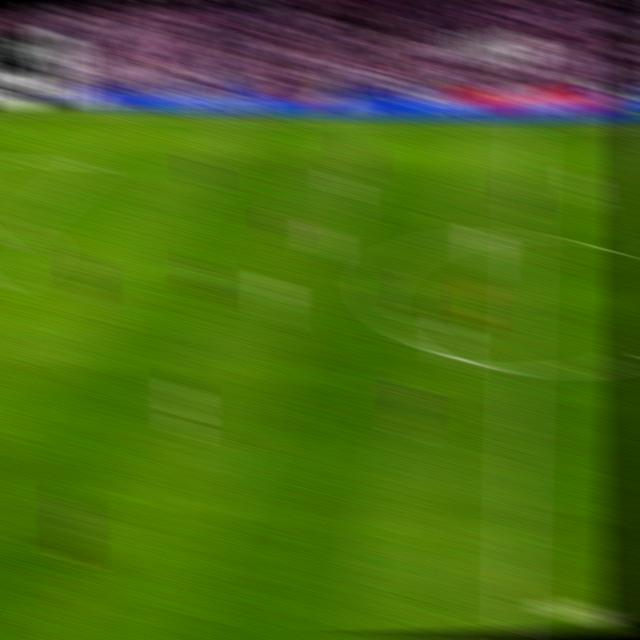bigarea_top_inner: (80, 156, 105, 172)
halfcircle_bottom: (504, 350, 536, 384)
halfcircle_top: (508, 222, 540, 248)
midline_top_intersection: (515, 116, 541, 136)
top_arc_area_intersection: (14, 209, 42, 230)
